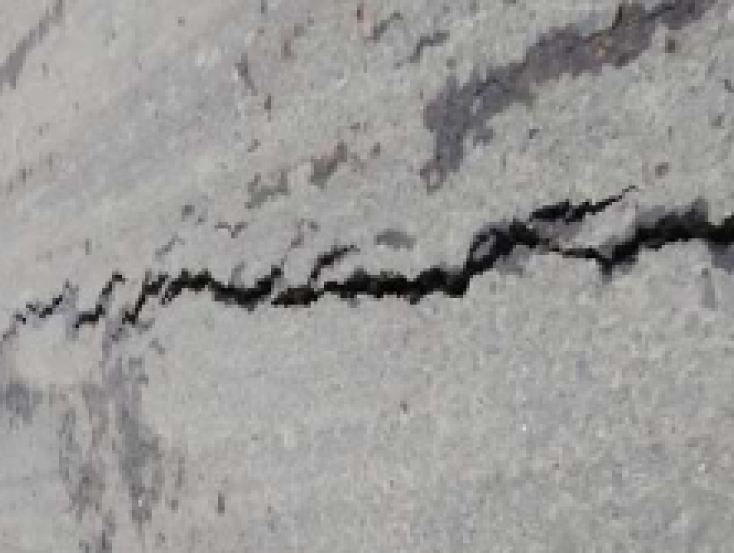Retak Melintang: (1, 186, 734, 351)
